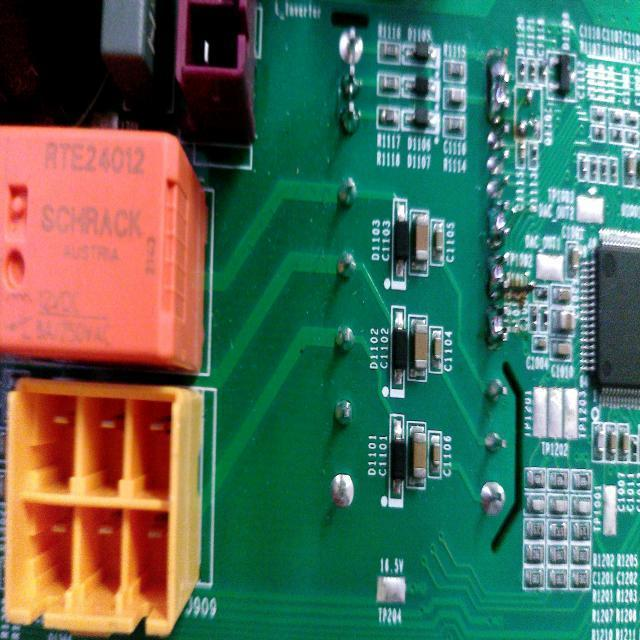Soldering shorted: (483, 41, 511, 126), (483, 301, 512, 358), (486, 248, 513, 300), (487, 194, 512, 243)
